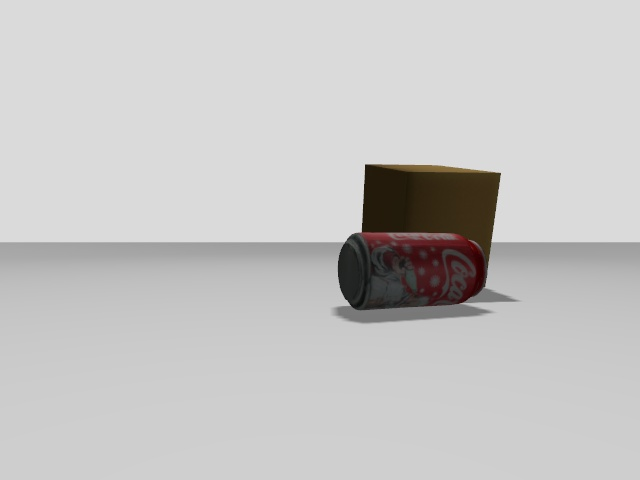canette: (339, 232, 486, 309)
carton: (356, 165, 499, 262)
